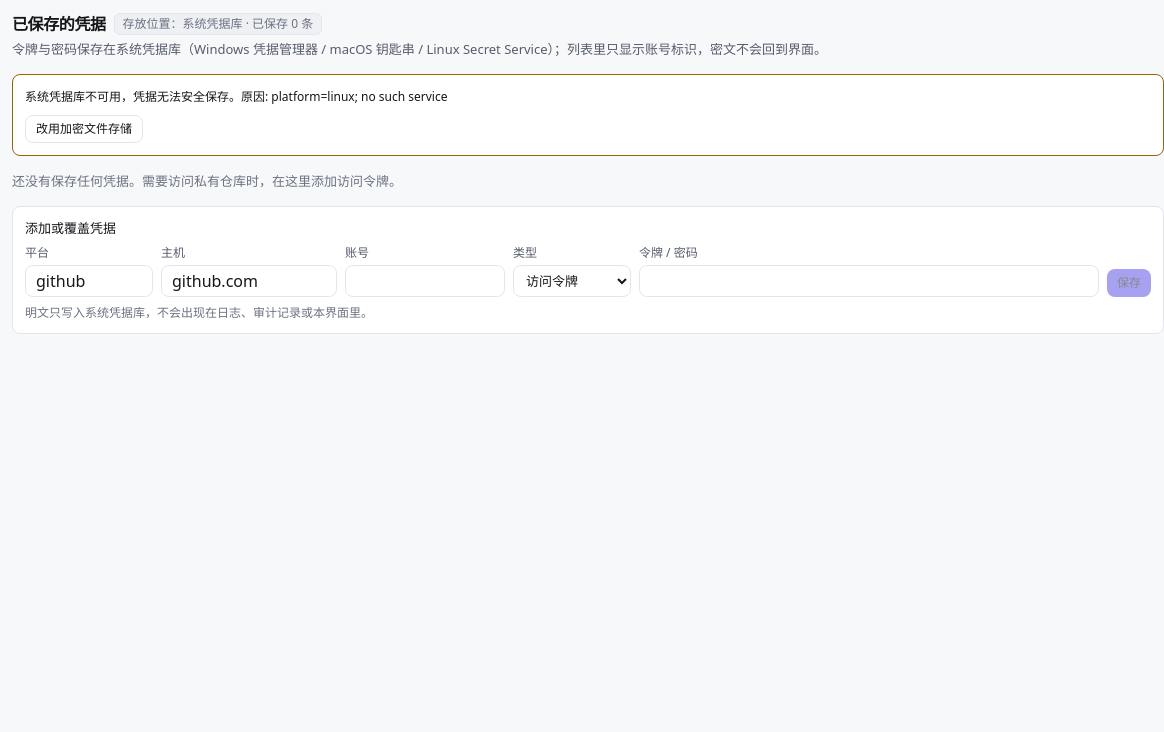
Test case: 凭据面板 › 凭据库不可用时可以改用加密文件：口令发给后端创建保险库
The image size is (1164, 732).
expect the element with test id "credentials-keyring-warning" is shown: met, box x1=12 y1=74 x2=1163 y2=156
Click the button with test id "credentials-vault-start".
click(84, 128)  # box x1=25 y1=114 x2=143 y2=142
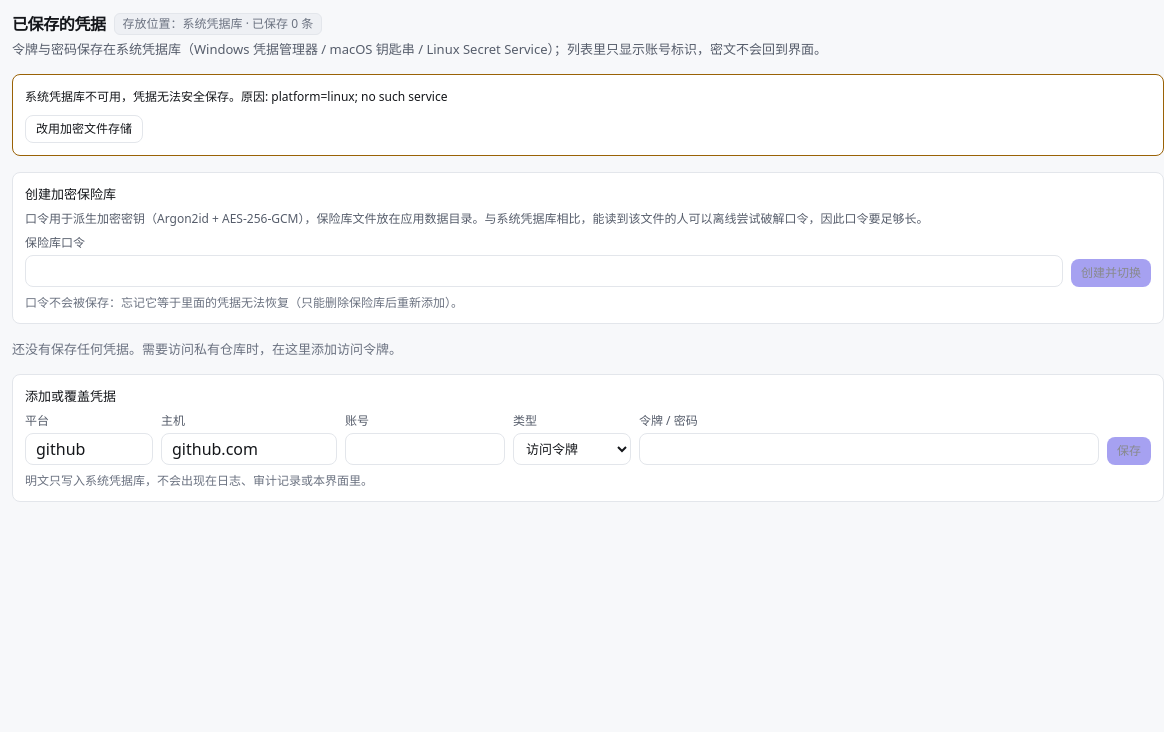
expect the form with test id "credentials-vault-form" shows "Argon2id": met, box x1=25 y1=210 x2=928 y2=226
Type "correct horse battery staple" into the password field with test id "credentials-vault-passphrase".
click(544, 270); type("correct horse battery staple")  # box x1=25 y1=254 x2=1063 y2=286
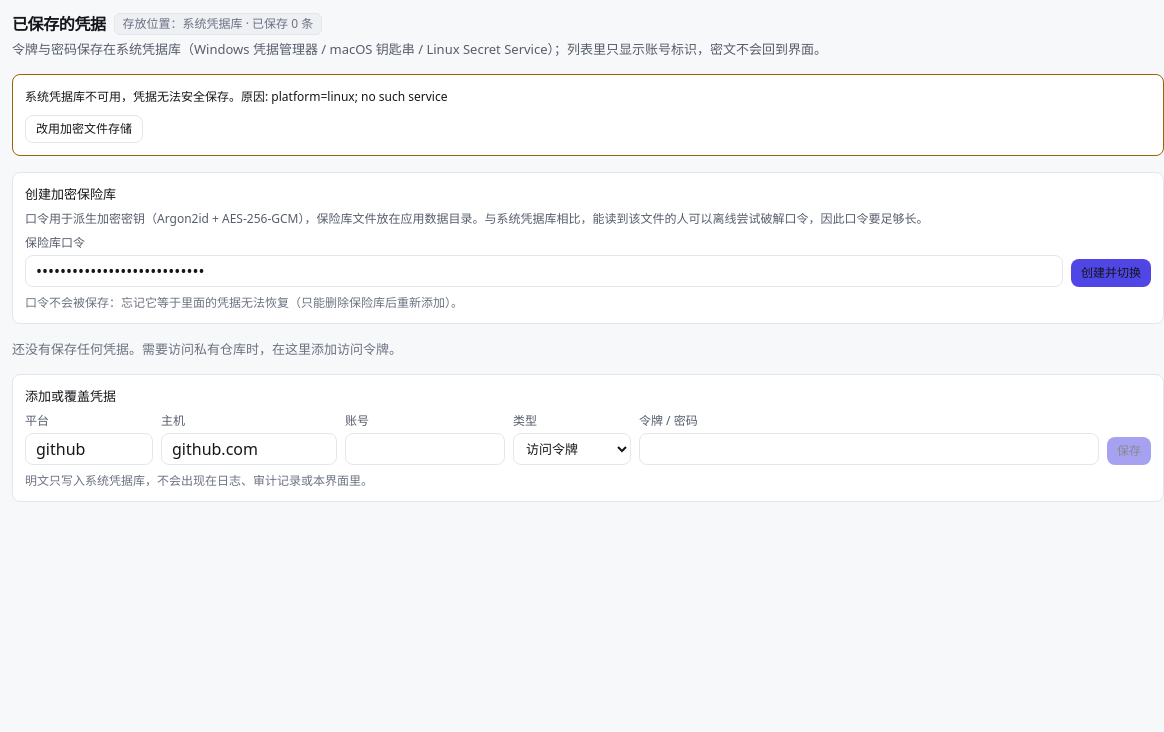
Click the button with test id "credentials-vault-submit".
click(1111, 272)  # box x1=1071 y1=258 x2=1151 y2=286
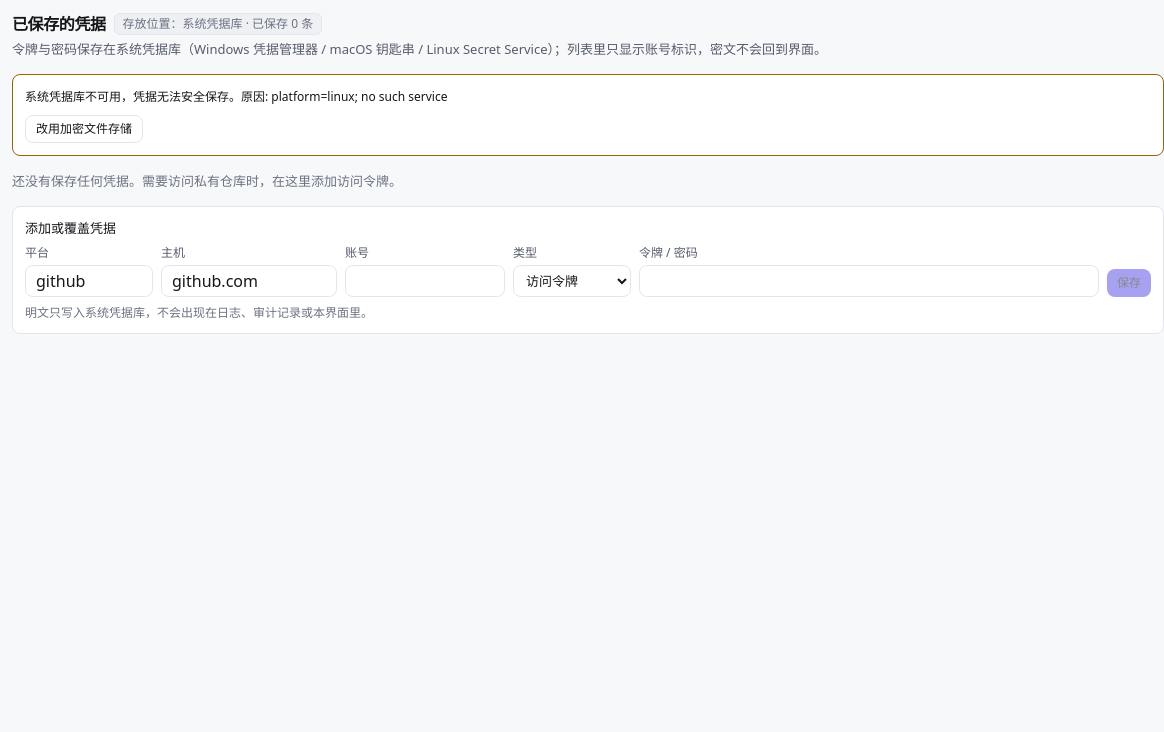
expect the password field with test id "credentials-vault-passphrase" is gone: met
expect the form with test id "credentials-vault-form" is gone: met
